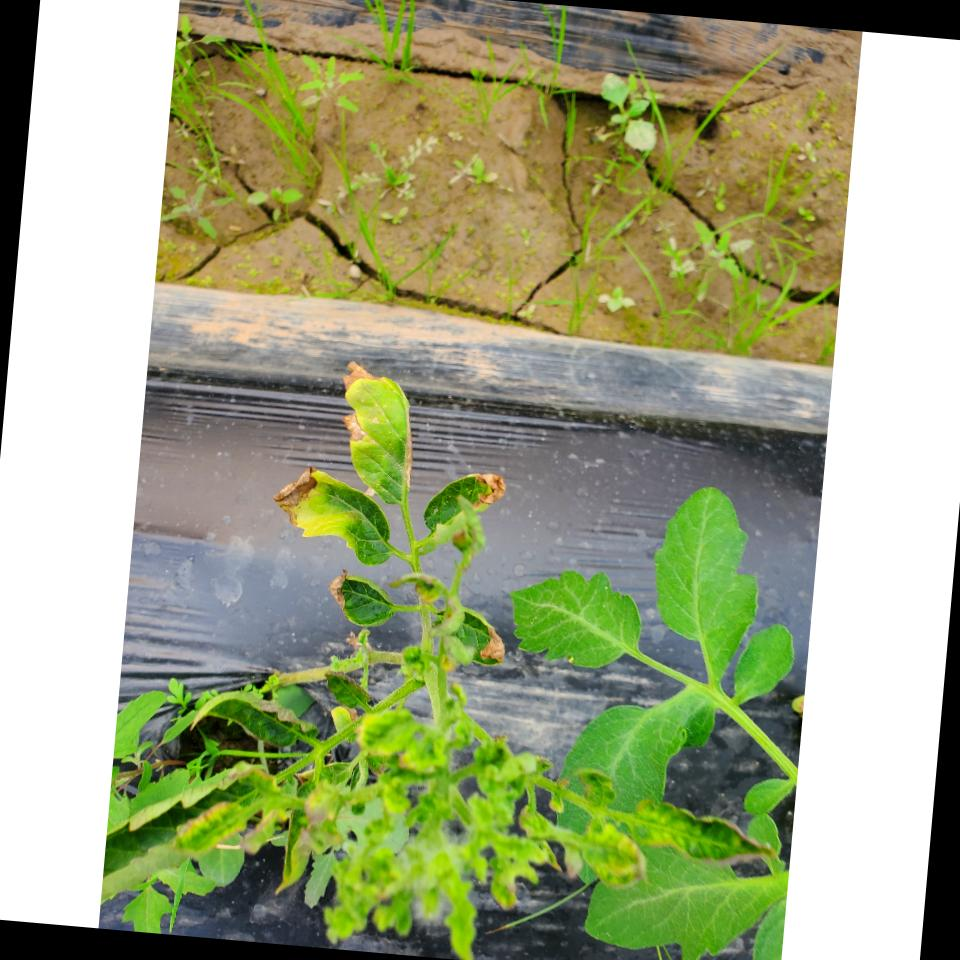tomato_leaves: (584, 852, 784, 960), (647, 481, 751, 678), (507, 564, 643, 676), (730, 622, 798, 707)
tomato_yellow_leaf_curl_virus: (333, 360, 428, 508), (274, 462, 402, 567), (428, 466, 520, 546), (326, 567, 396, 630), (448, 610, 508, 668)
